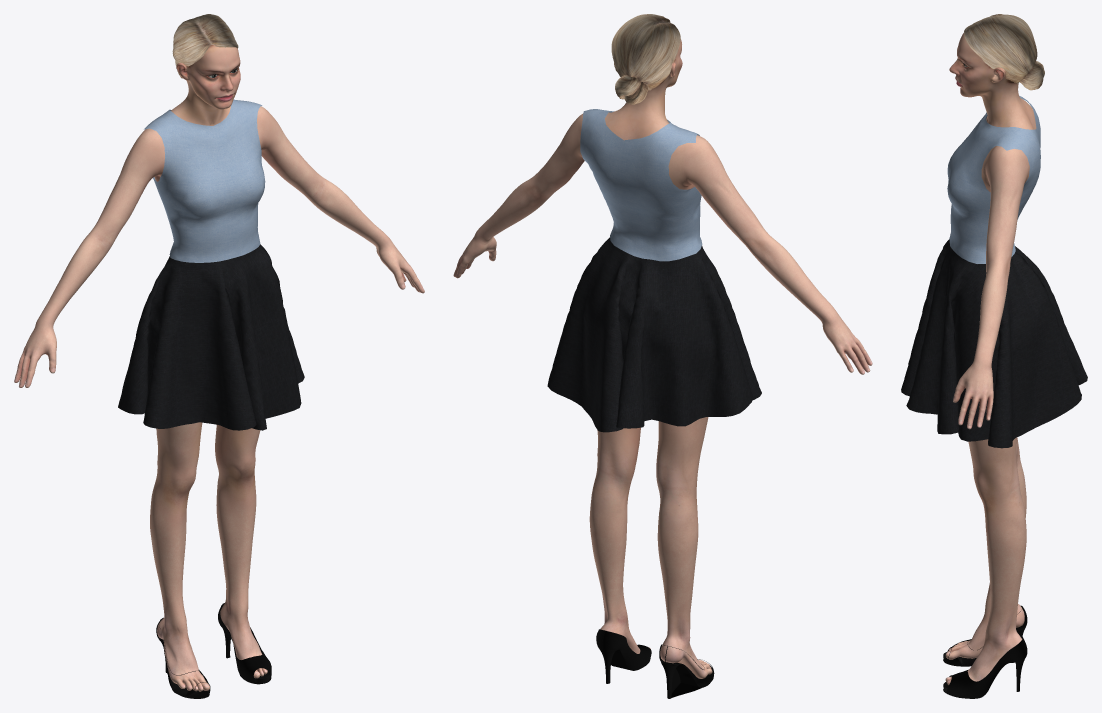
Rendered from woman.glb.
3 renders of one model, left to right at view 1: azimuth 30°, elevation 25°; view 2: azimuth 150°, elevation 25°; view 3: azimuth 270°, elevation 25°, orthographic. The views are drawn at different scales.
Visible parts, largest first — view 1: dress2, body, hair_Shape, shoes_l_Shape; view 2: dress2, body, hair_Shape, shoes_l_Shape, shoes_r_Shape; view 3: dress2, body, hair_Shape, shoes_l_Shape, shoes_r_Shape.
Part boxes in pixels (x1,y1,x2,y2): dress2: (118,99,304,430); body: (14,45,424,691); hair_Shape: (172,14,238,78); shoes_l_Shape: (218,603,271,684); dress2: (547,109,761,432); body: (453,39,872,678); hair_Shape: (611,14,680,104); shoes_l_Shape: (596,629,651,683); shoes_r_Shape: (659,644,714,698); dress2: (901,96,1087,448); body: (945,33,1036,684); hair_Shape: (964,14,1044,90); shoes_l_Shape: (943,636,1027,698); shoes_r_Shape: (943,605,1027,666).
Size of what is drawn, in the model's own units: 1212 by 1879 by 482.
Materials: 15 (15 with a texture image).
